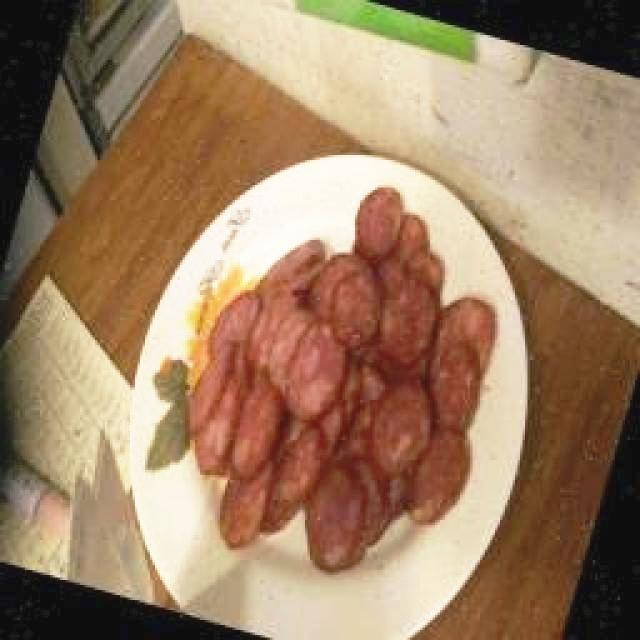chinese_sausage: (190, 185, 495, 570)
